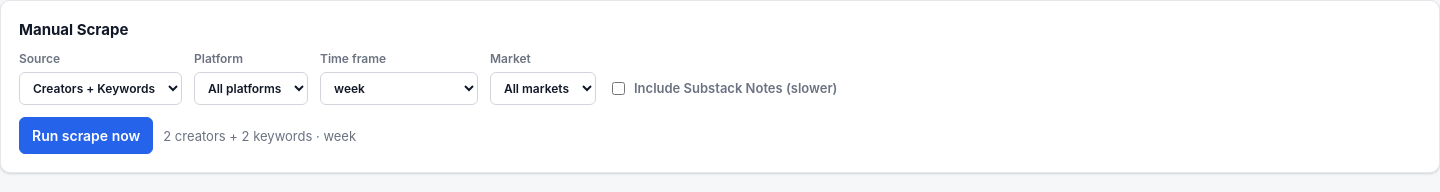
ManualScrape › can scrape Substack only (§17): posts platforms:["substack"]
Step 1. Select "Substack" in the dropdown labelled "Platform" → x=251, y=88, box [194, 72, 308, 104]
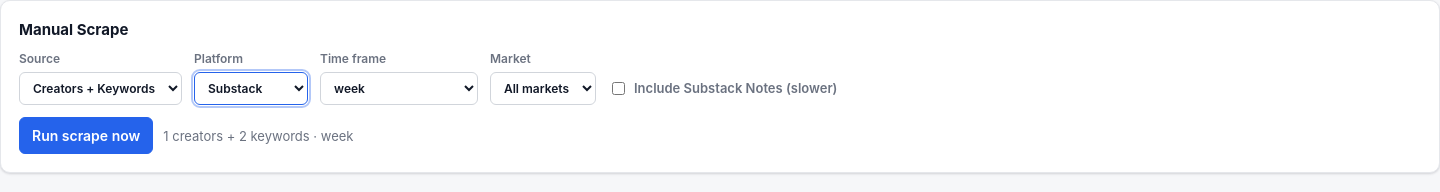
Step 2. Click the button "Run scrape now" → x=86, y=135, box [19, 116, 153, 154]
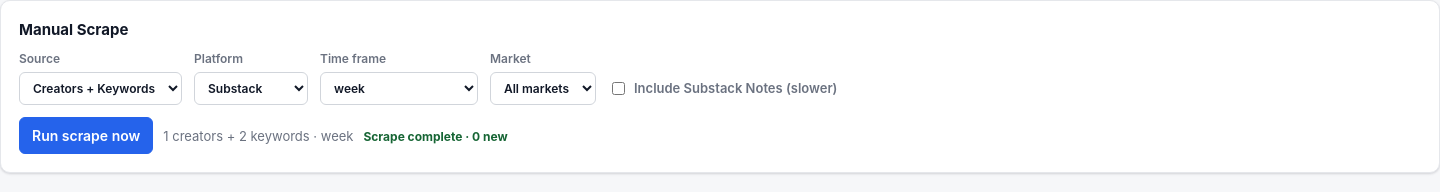
Now the text "Scrape complete · 0 new" is shown, box [364, 128, 508, 146]
